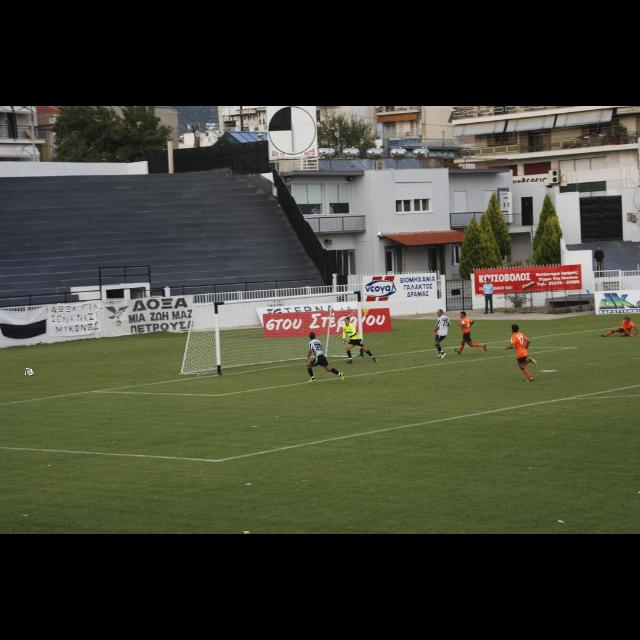Football: (26, 369, 32, 375)
